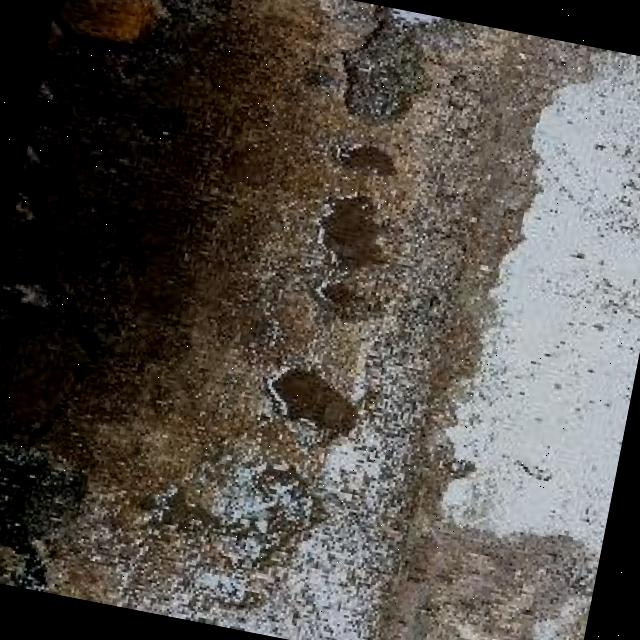waterlogging: (254, 118, 433, 460)
